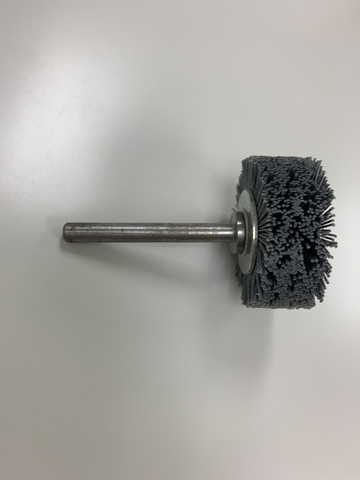Wheel Brush: (58, 141, 337, 327), (62, 154, 323, 311)
